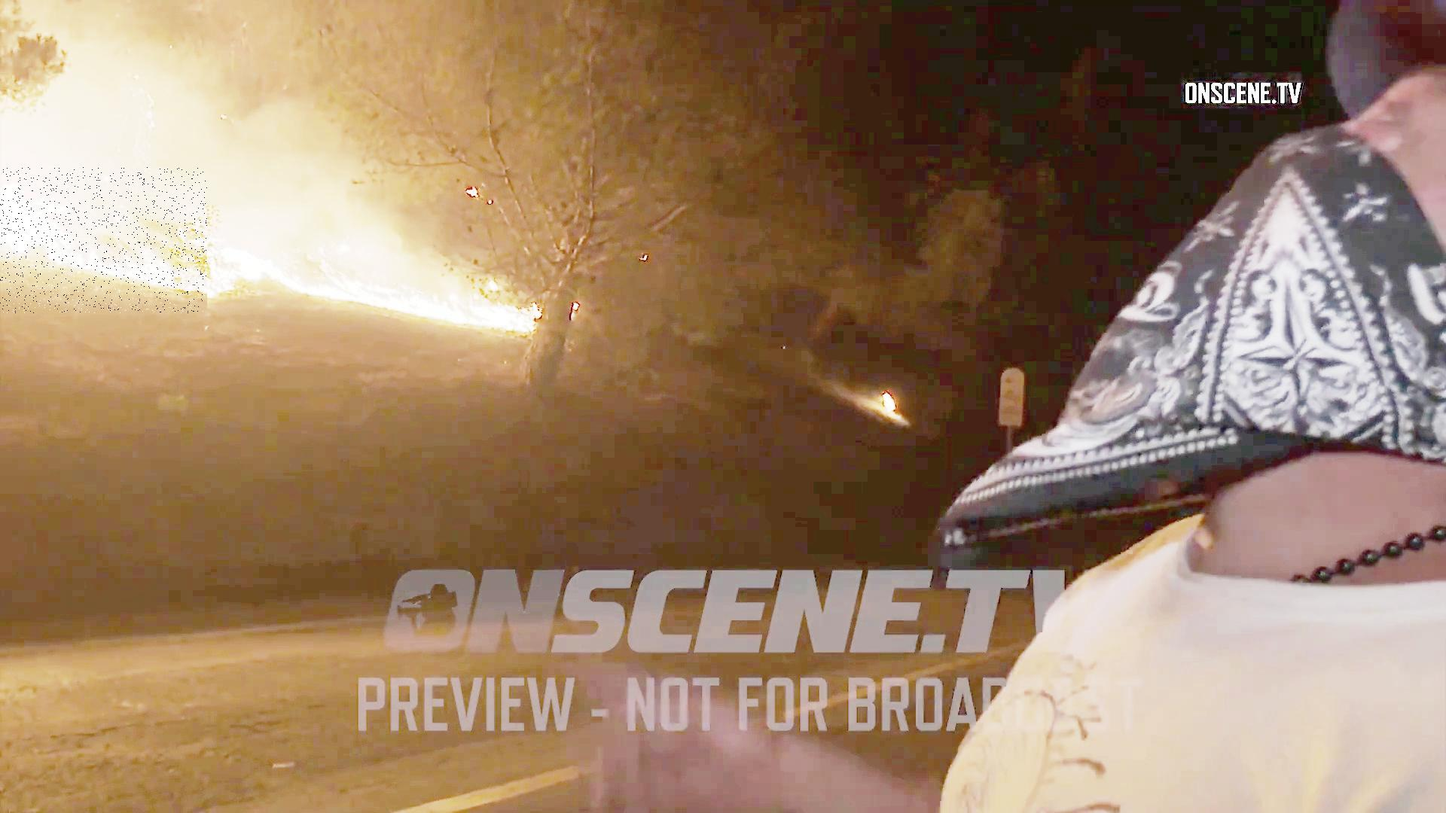fire: (0, 168, 207, 314)
